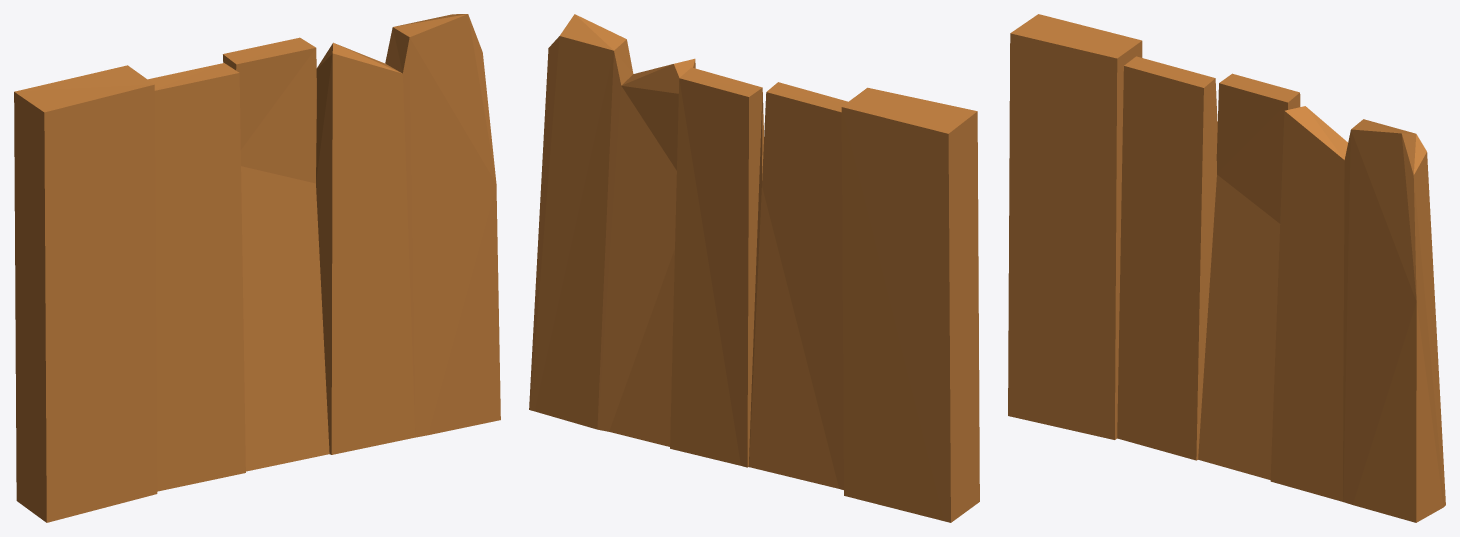
The model's file is Prop_Soft_Timber_Retaining_Wall_Panel_01.FBX.
The picture shows the model from 3 angles, left to right: view 1: azimuth 30°, elevation 25°; view 2: azimuth 150°, elevation 25°; view 3: azimuth 330°, elevation 25°; orthographic projection. The views are drawn at different scales.
Visible parts, largest first — view 1: Prop_Soft_Timber_Retaining_Wall_Panel_01; view 2: Prop_Soft_Timber_Retaining_Wall_Panel_01; view 3: Prop_Soft_Timber_Retaining_Wall_Panel_01.
Part boxes in pixels (left/top/right/bottom): Prop_Soft_Timber_Retaining_Wall_Panel_01: left=14, top=14, right=500, bottom=522; Prop_Soft_Timber_Retaining_Wall_Panel_01: left=529, top=14, right=979, bottom=522; Prop_Soft_Timber_Retaining_Wall_Panel_01: left=1008, top=14, right=1445, bottom=522.
Bounding box in the file's own units: 2590 × 2243 × 406.
